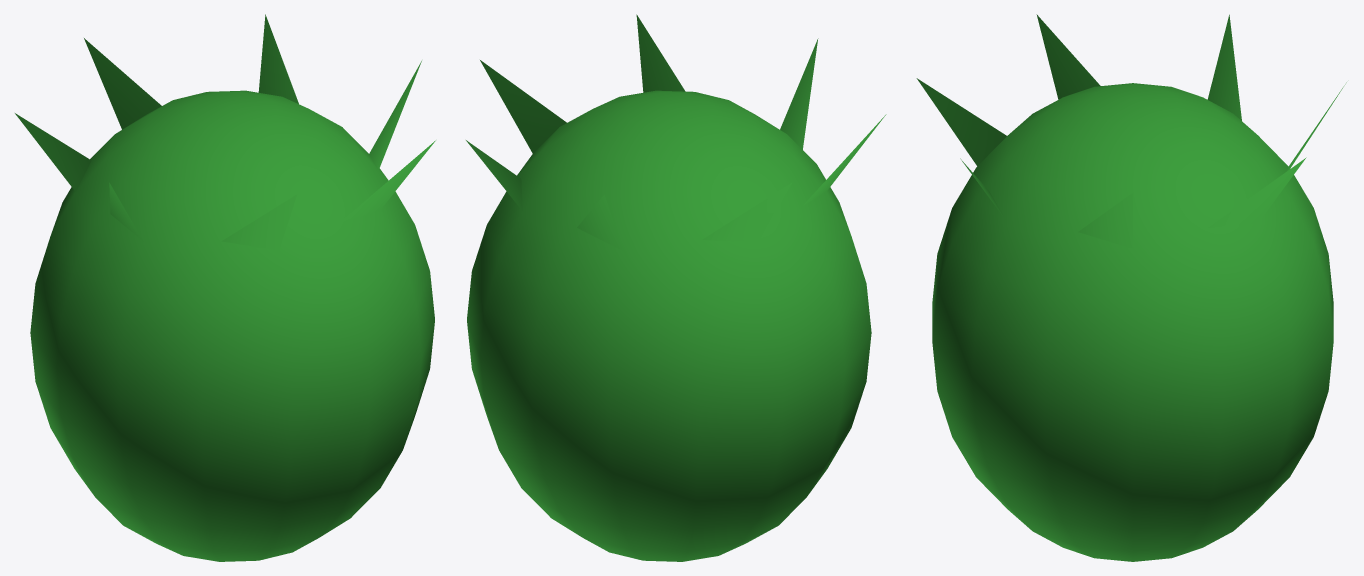
Rendered from Aracnoflora_stage3.obj.
The picture shows the model from 3 angles, left to right: view 1: azimuth 30°, elevation 25°; view 2: azimuth 150°, elevation 25°; view 3: azimuth 270°, elevation 25°; orthographic projection.
Bounding box in the file's own units: 2.7 × 3.12 × 2.74.
